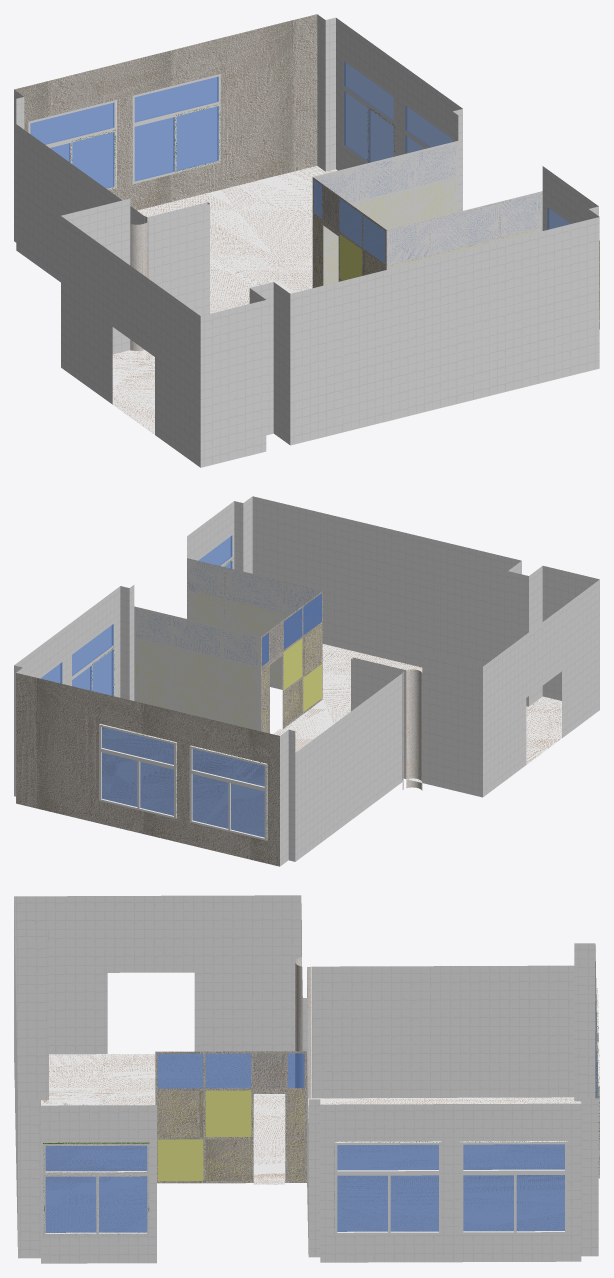
Rendered from LAB016.obj.
3 renders of one model, top to bottom at view 1: azimuth 30°, elevation 25°; view 2: azimuth 150°, elevation 25°; view 3: azimuth 270°, elevation 25°, orthographic. The views are drawn at different scales.
Visible parts, largest first — view 1: Mesh31 DES016 Model, Mesh7 ventana1_2_2 DES016 Model, Mesh19 ventana1_2_4 DES016 Model, Mesh25 ventana1_2_5 DES016 Model, Mesh1 ventana1_2_1 DES016 Model; view 2: Mesh31 DES016 Model, Mesh19 ventana1_2_4 DES016 Model, Mesh7 ventana1_2_2 DES016 Model, Mesh1 ventana1_2_1 DES016 Model, Mesh13 ventana1_2_3 DES016 Model; view 3: Mesh31 DES016 Model, Mesh25 ventana1_2_5 DES016 Model, Mesh1 ventana1_2_1 DES016 Model, Mesh13 ventana1_2_3 DES016 Model.
Part boxes in pixels (x1,y1,x2,y2): Mesh31 DES016 Model: (14,14,599,467); Mesh7 ventana1_2_2 DES016 Model: (132,74,220,183); Mesh19 ventana1_2_4 DES016 Model: (28,100,116,190); Mesh25 ventana1_2_5 DES016 Model: (342,58,394,163); Mesh1 ventana1_2_1 DES016 Model: (404,102,452,153); Mesh31 DES016 Model: (14,496,599,866); Mesh19 ventana1_2_4 DES016 Model: (189,745,267,840); Mesh7 ventana1_2_2 DES016 Model: (99,724,176,818); Mesh1 ventana1_2_1 DES016 Model: (71,621,114,696); Mesh13 ventana1_2_3 DES016 Model: (196,533,233,568); Mesh31 DES016 Model: (14,895,598,1263); Mesh25 ventana1_2_5 DES016 Model: (460,1141,567,1234); Mesh1 ventana1_2_1 DES016 Model: (334,1141,441,1234); Mesh13 ventana1_2_3 DES016 Model: (43,1142,149,1235).
Bounding box in the file's own units: 10.32 × 3.85 × 12.09.
Materials: 12 (3 with a texture image).
